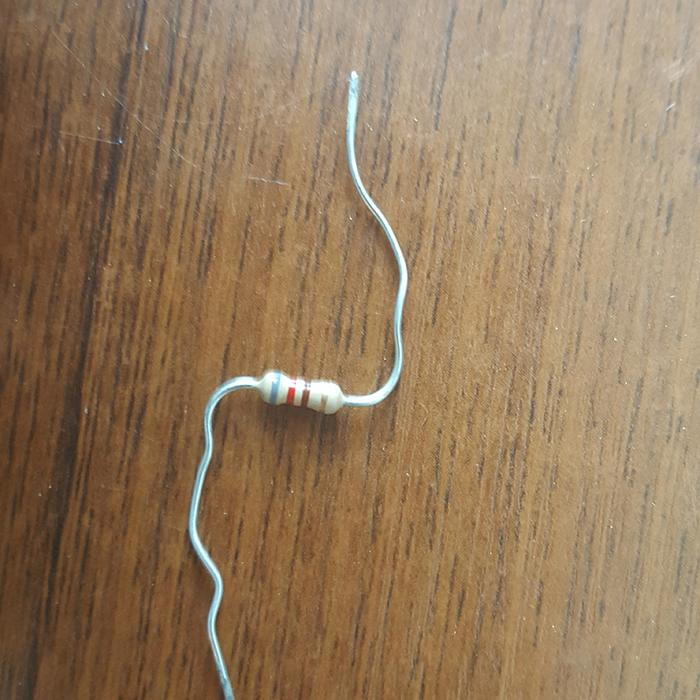resistor: (257, 369, 345, 413)
